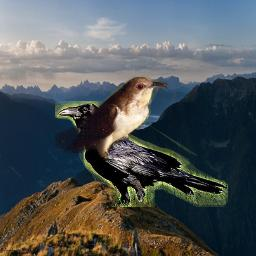Crow: (55, 101, 228, 207)
Cuckoo: (55, 76, 168, 158)
